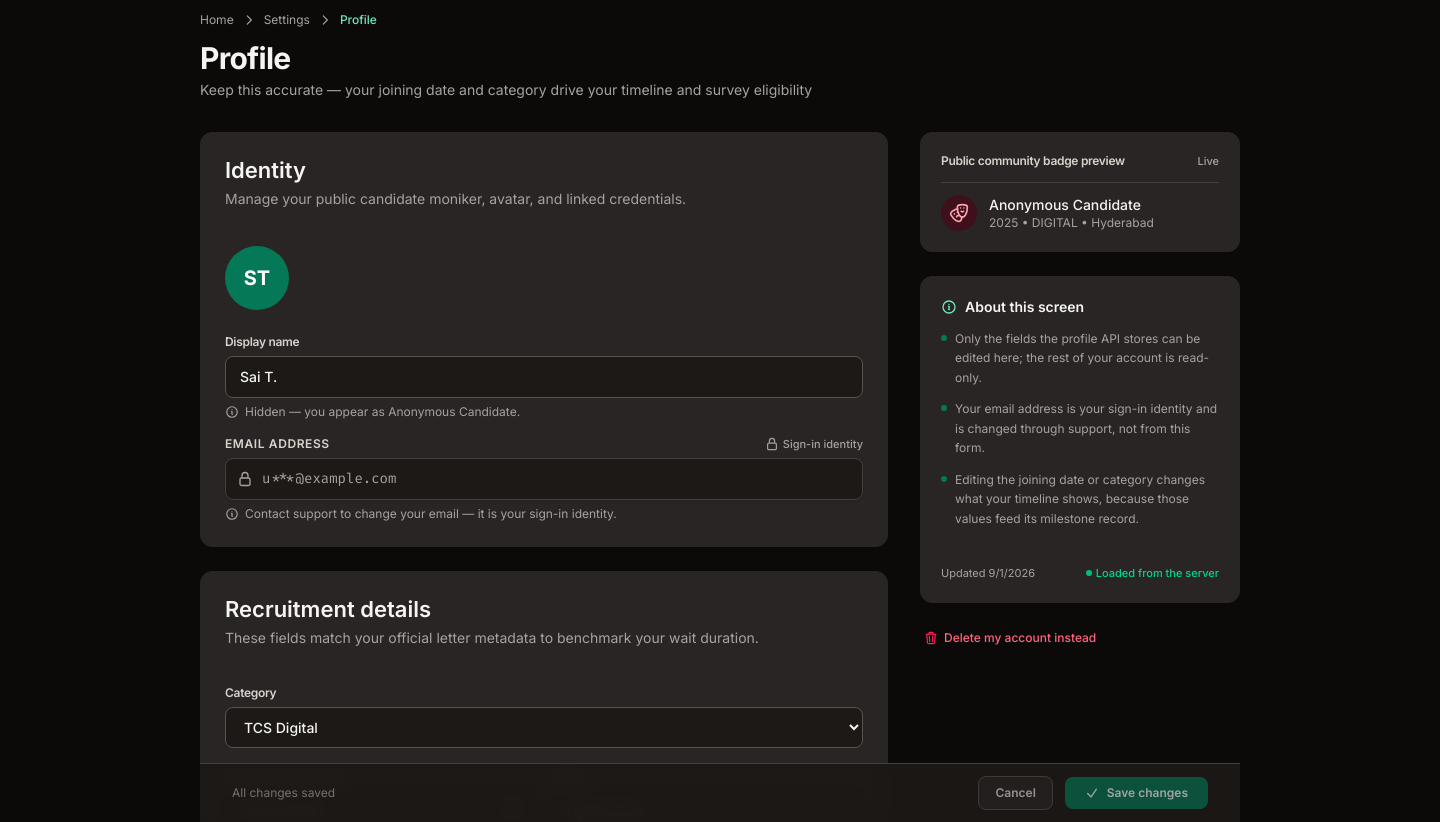
SettingsProfilePage (9.5 Task 3) › shows the unsaved-changes indicator when a field is edited and enables Save
Type "!" into the field labelled "Display name".
click(544, 376); type("!")  # box [225,356,863,398]
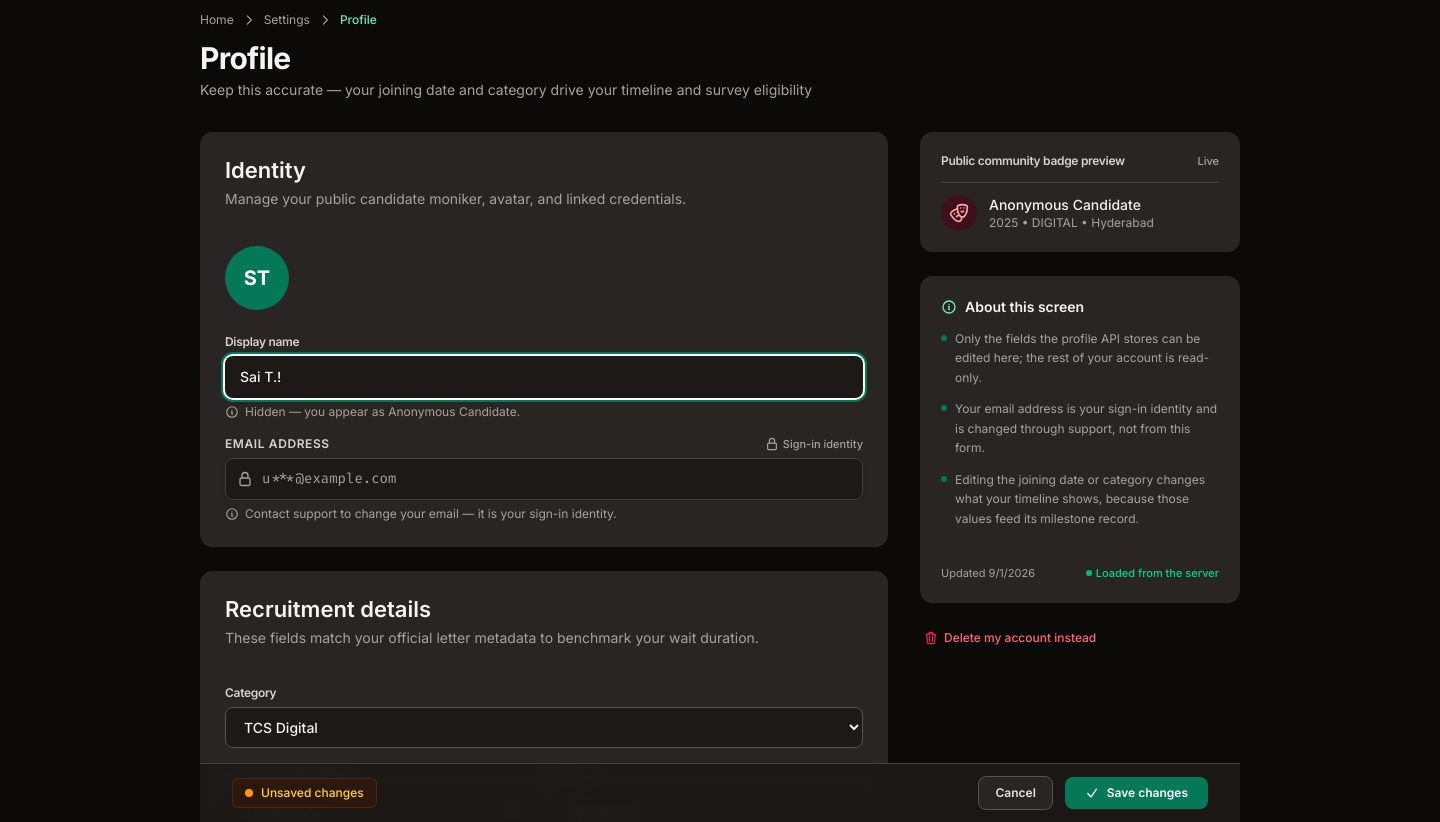
Check: the element with test id "unsaved-indicator" is shown, box [232,778,377,808]
Check: the button "Save changes" is enabled, box [1065,777,1208,809]
Note: Cancel reverts the edit and clears the indicator.
Click the button "Cancel".
click(1016, 793)  # box [978,776,1053,810]
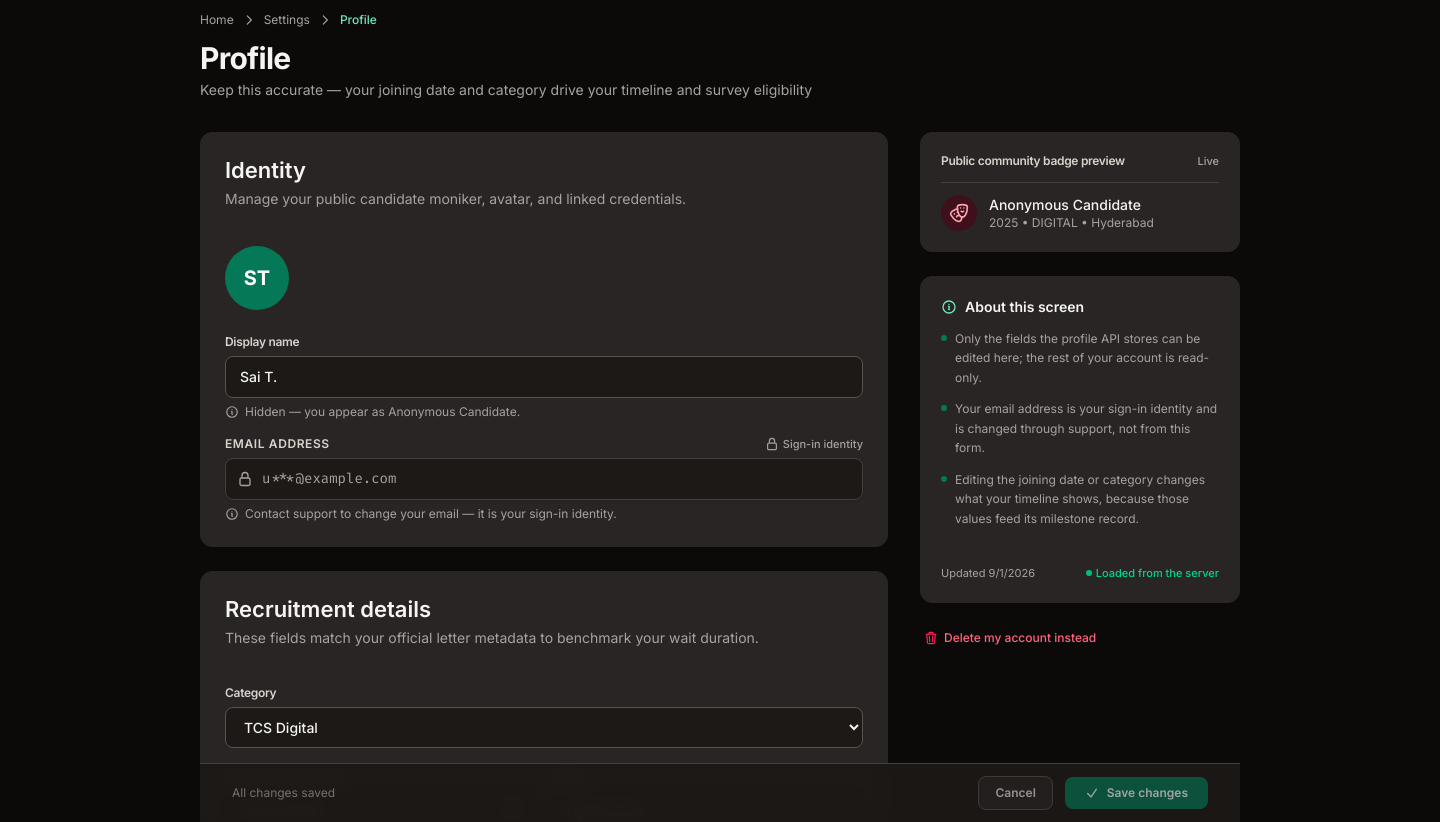
Check: the element with test id "unsaved-indicator" is gone
